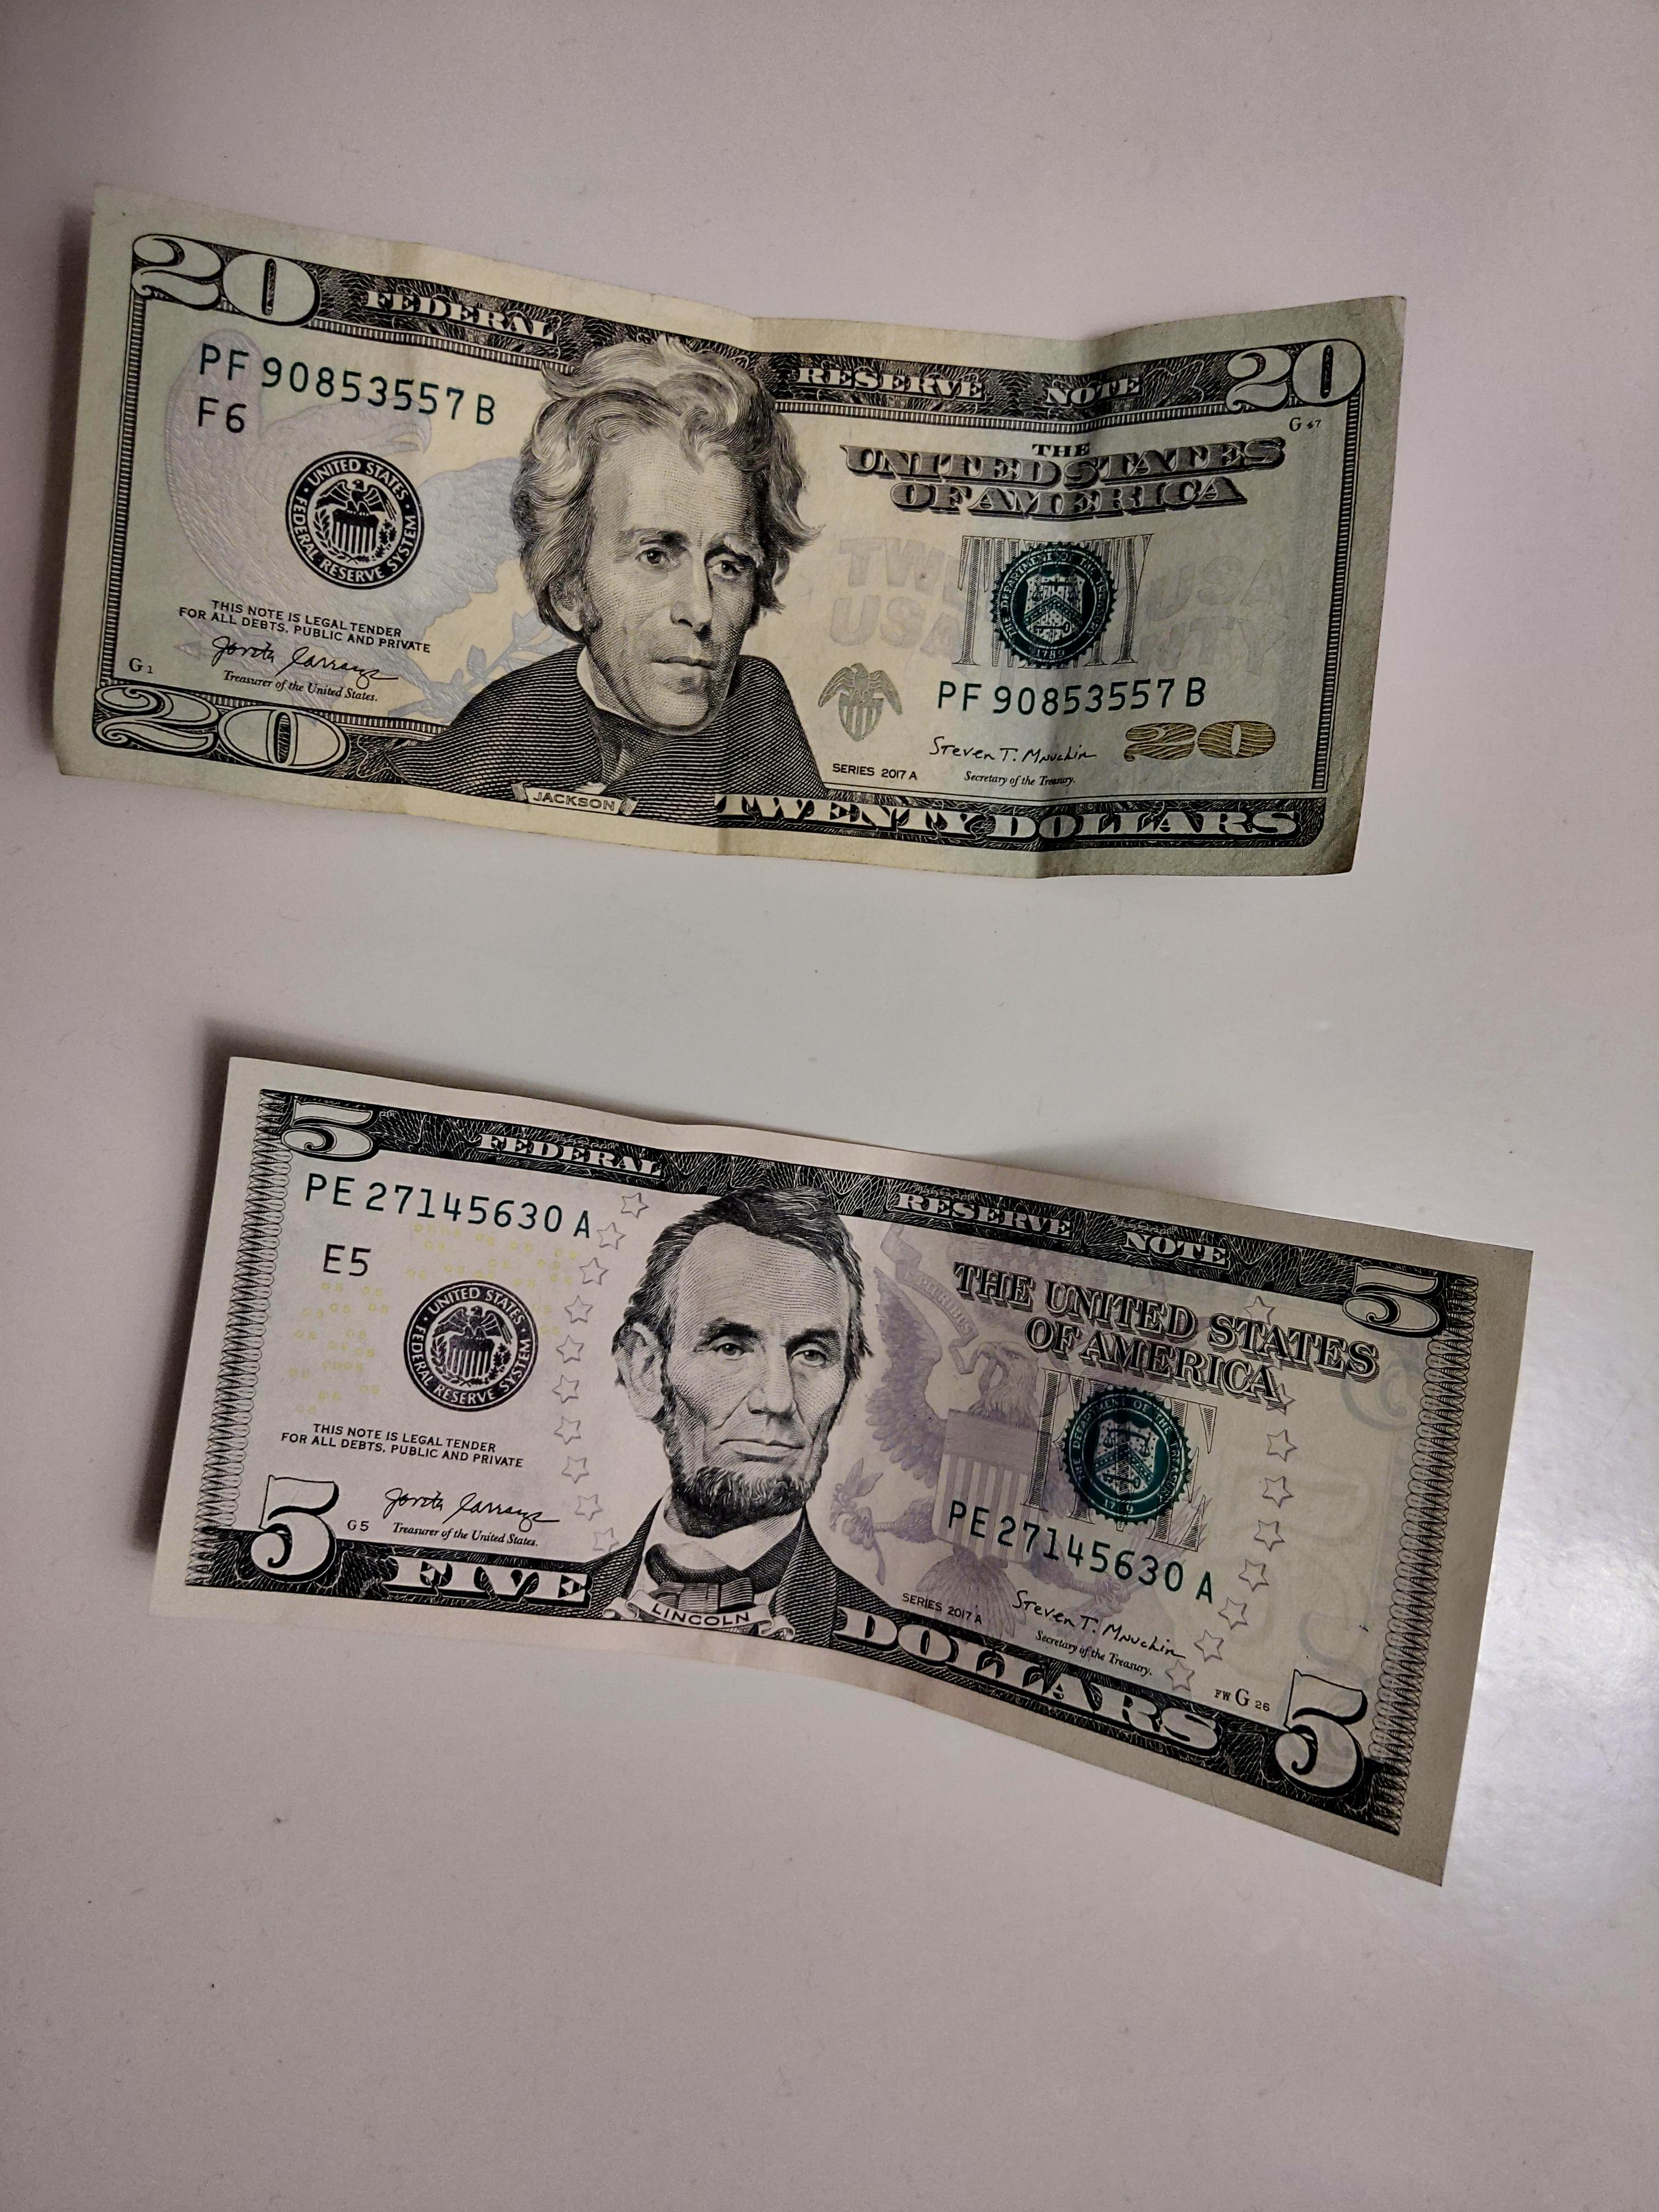FiveBill: (146, 1047, 1535, 1895)
TwentyBill: (51, 185, 1412, 881)
